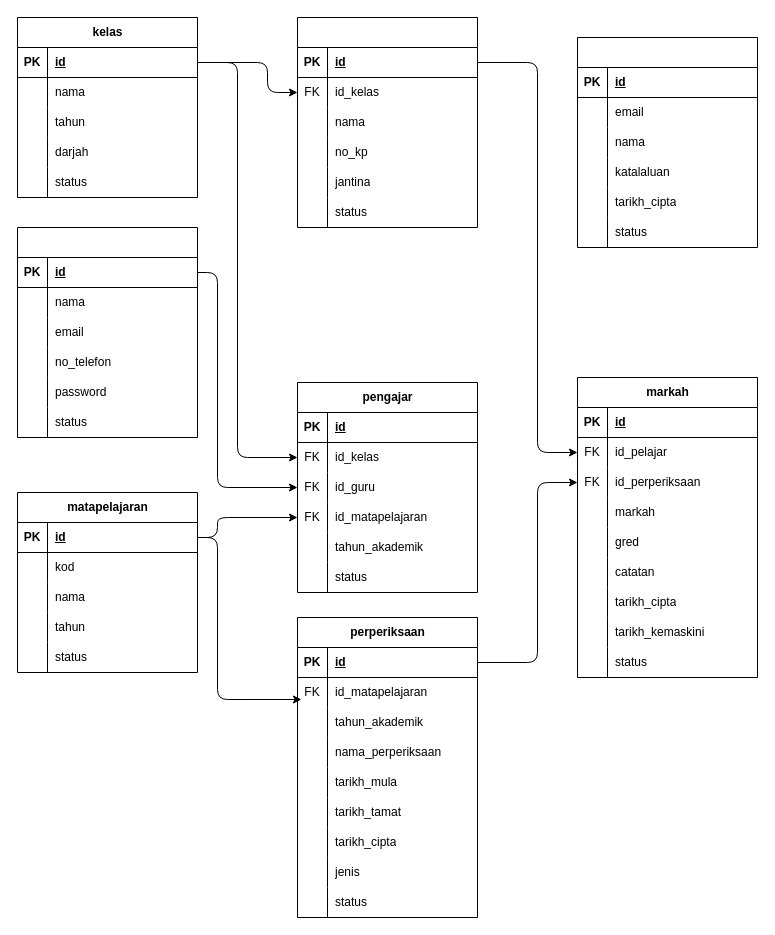
This 775x935 diagram has some shape labels left out. Each missing label, with the box of its shape:
admin: (576, 36, 758, 248)
guru: (16, 226, 198, 438)
pelajar: (296, 16, 478, 228)
